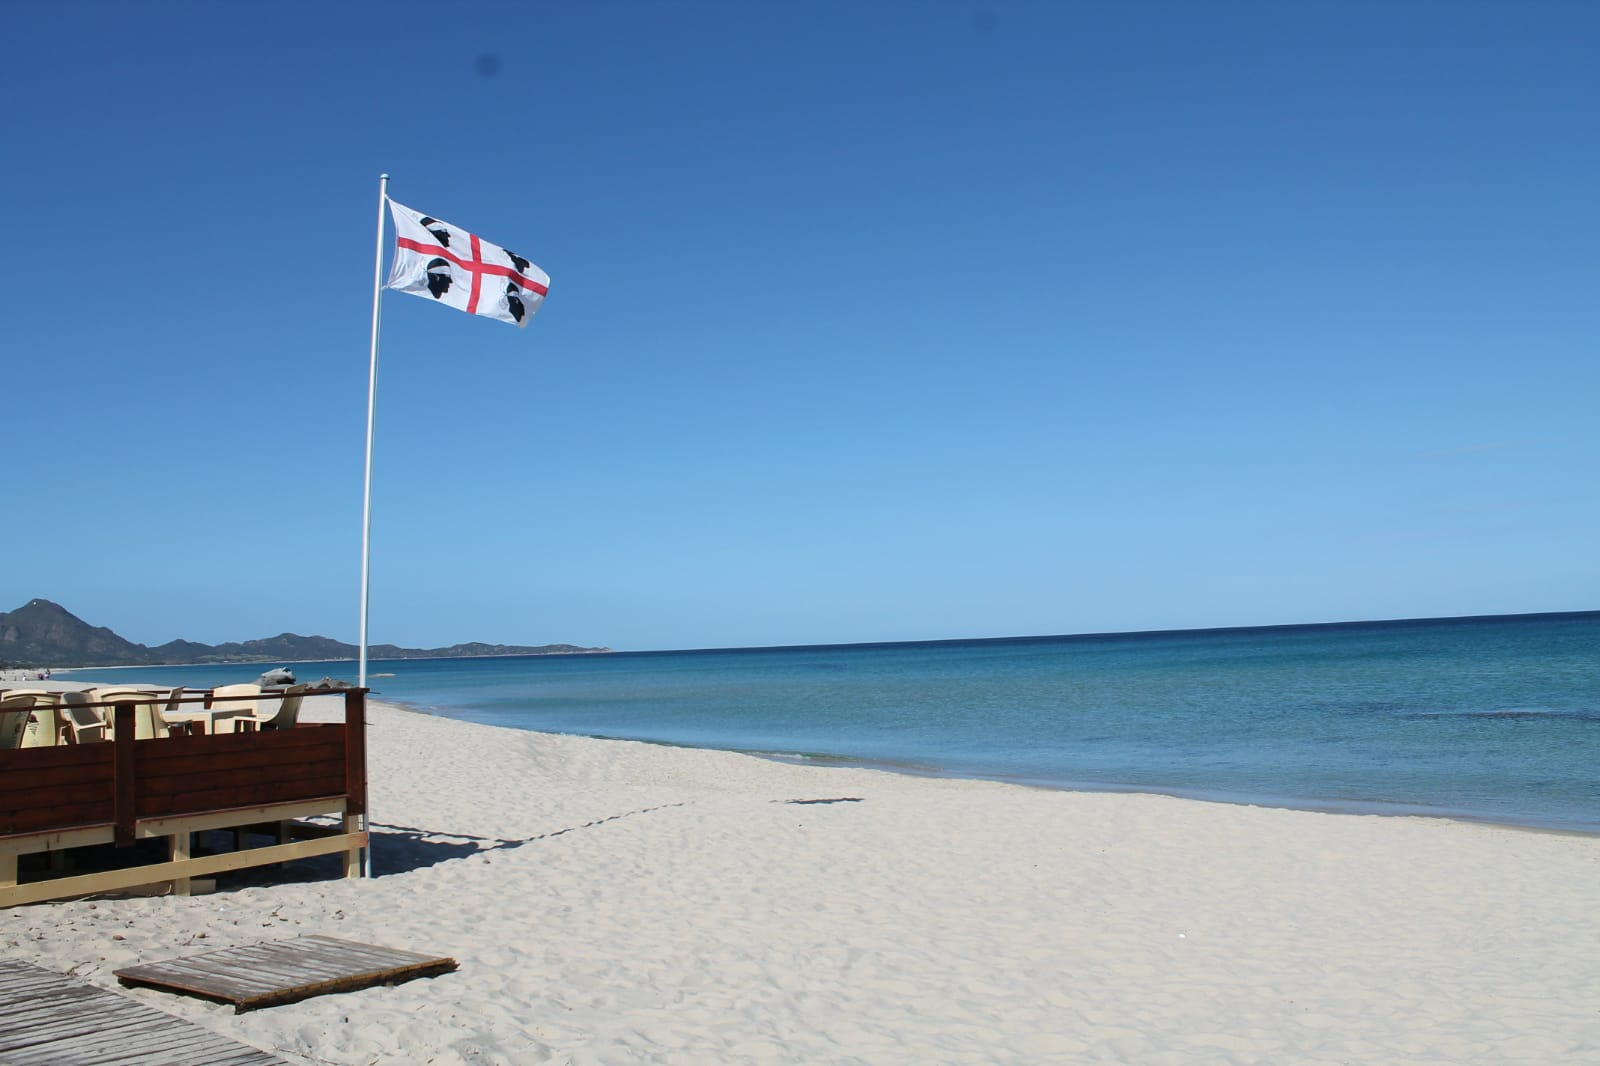Flag: (368, 188, 553, 336)
